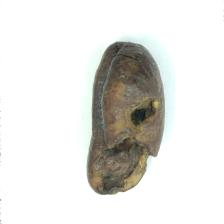NG: (87, 40, 164, 195)
